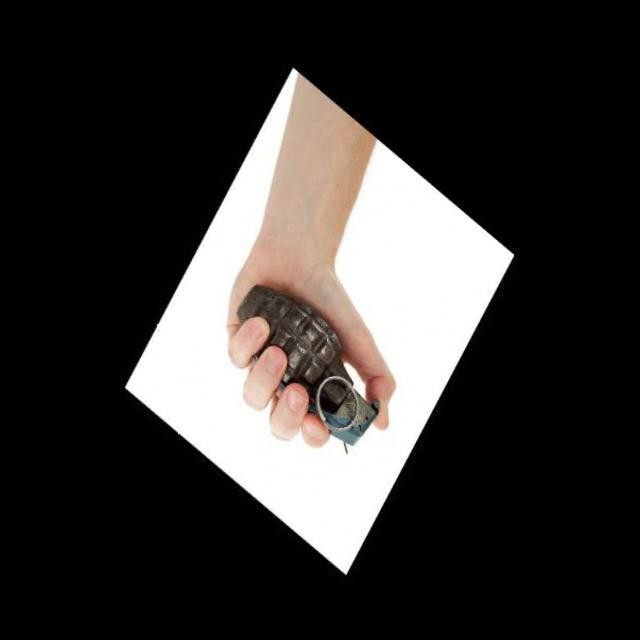grenade: (228, 260, 394, 472)
